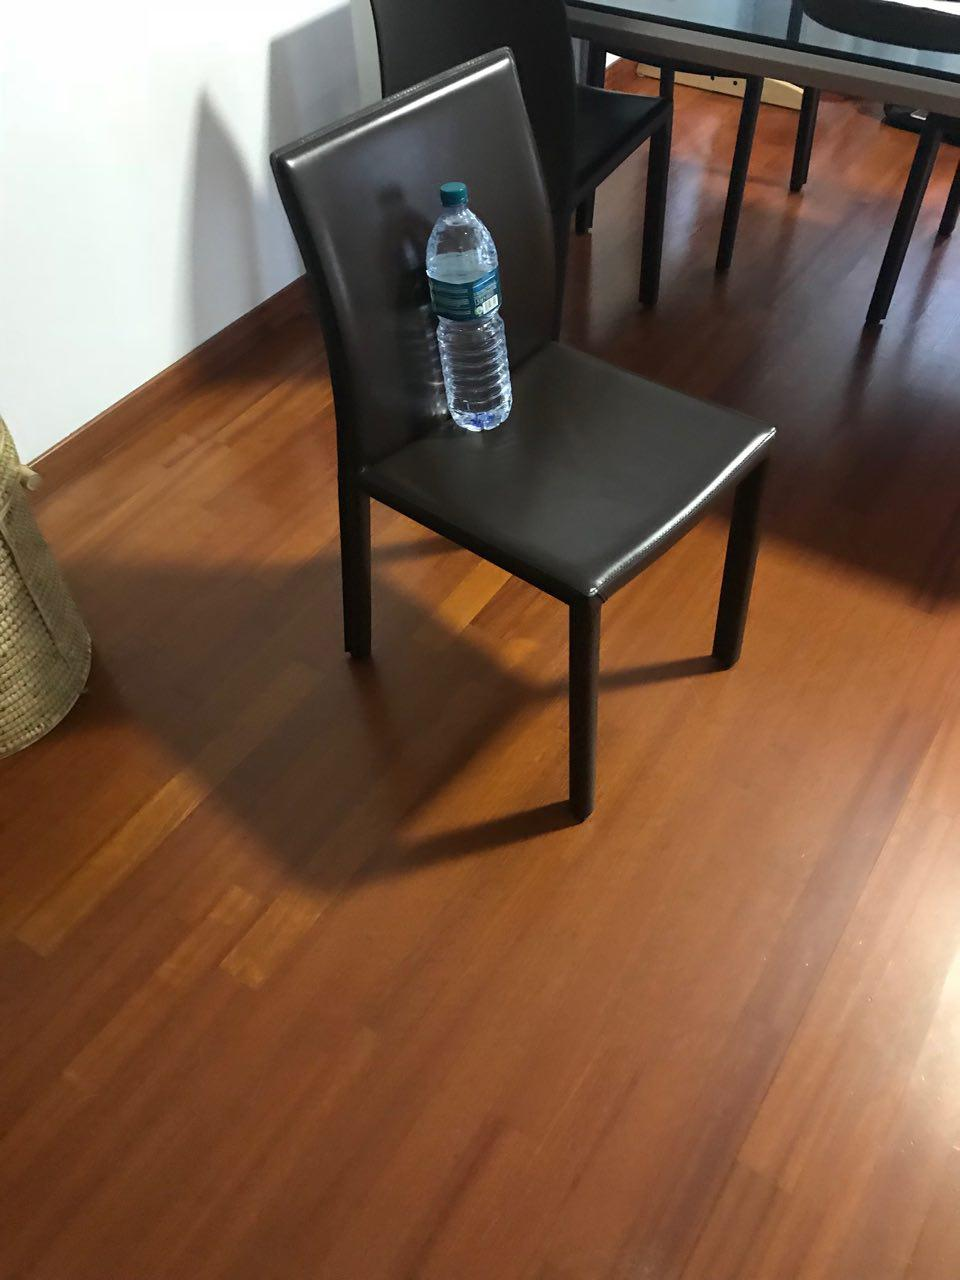san_bernardo: (425, 181, 513, 431)
